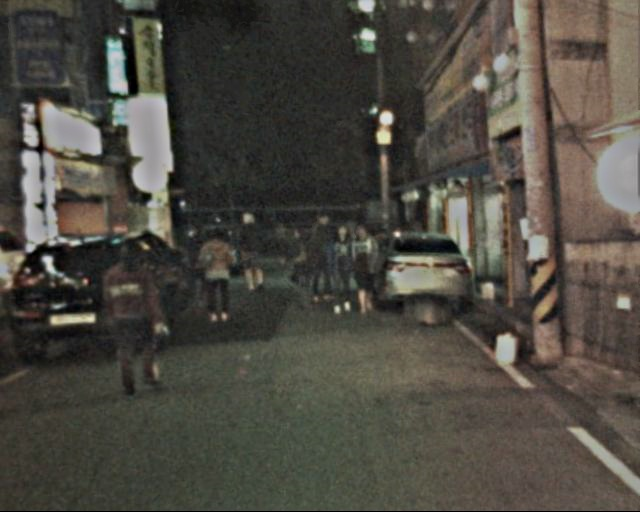person: (97, 233, 163, 398), (197, 230, 238, 320), (302, 212, 343, 301), (347, 221, 381, 317), (324, 220, 357, 317), (284, 219, 318, 309), (233, 213, 268, 287), (177, 222, 207, 294)
